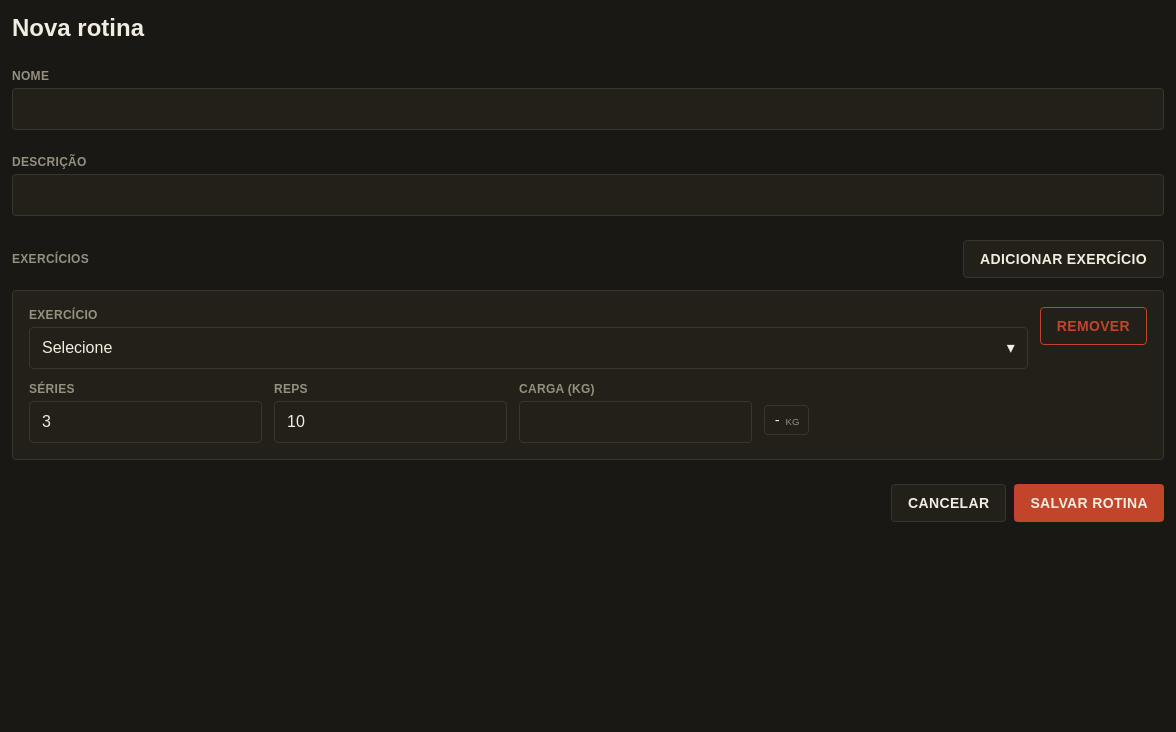
Test: RoutineBuilderPage › blocks submit with no exercise rows removed down to zero
Expected: the heading "Nova rotina" is shown, [12, 14, 144, 41]
In the field labelled "Nome": (588, 109) [12, 88, 1164, 130], type "Treino C"
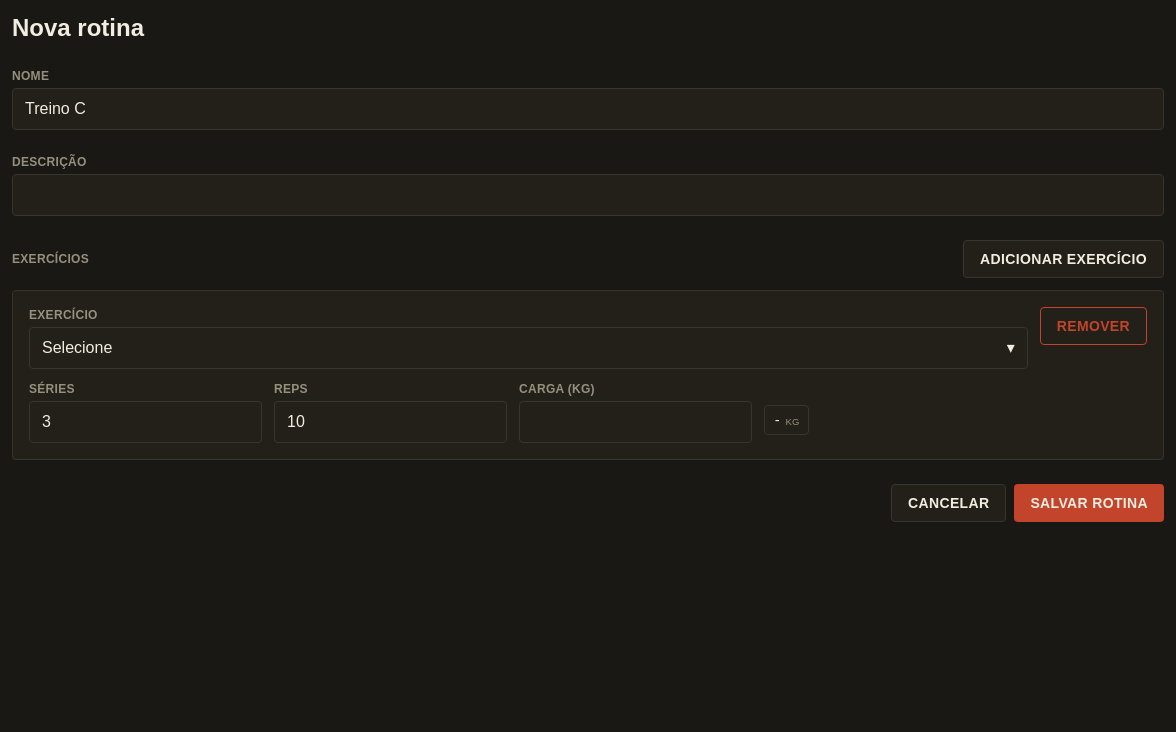
Click the button "Remover": (1093, 326) [1040, 307, 1147, 345]
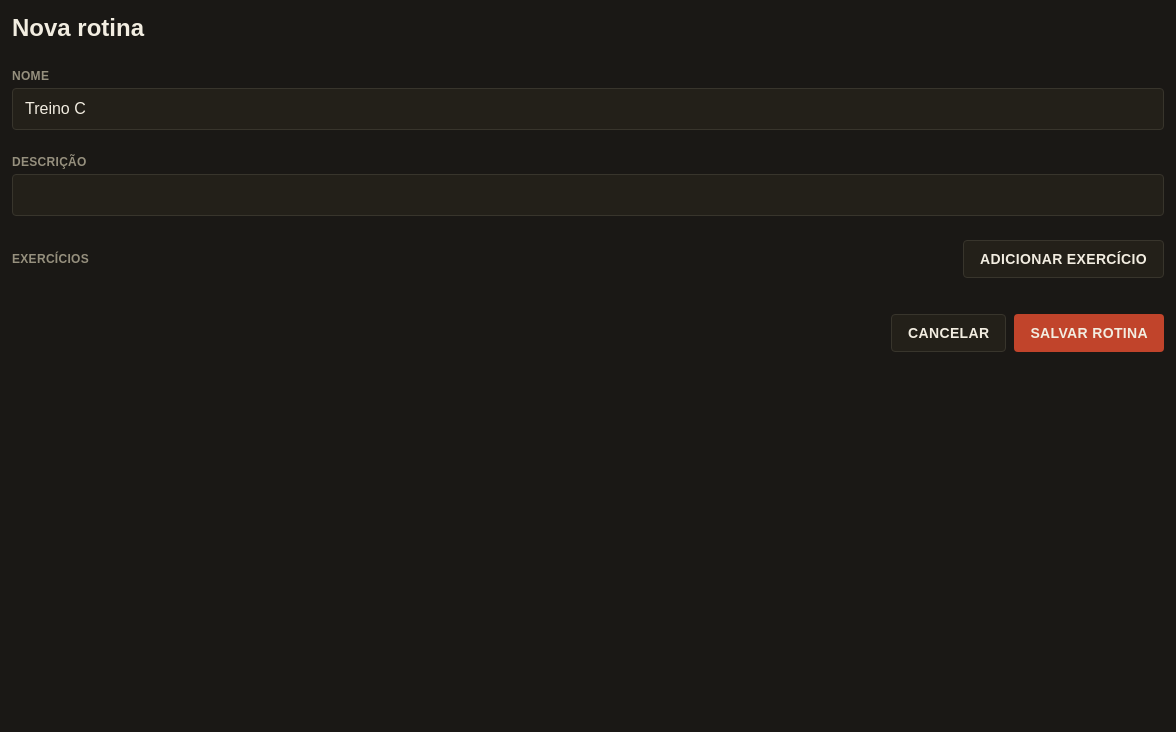
Click the button "Salvar rotina": (1089, 333) [1014, 314, 1164, 352]
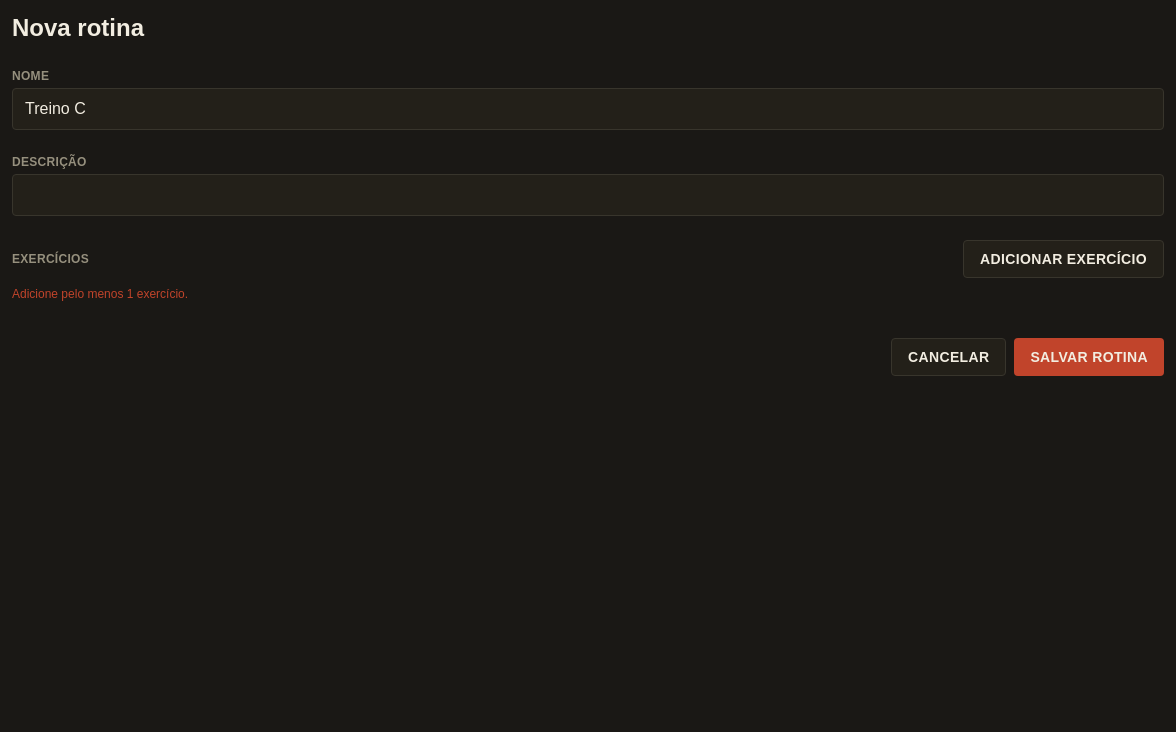
Now the text "Adicione pelo menos 1 exercício." is shown, box [12, 287, 188, 301]
